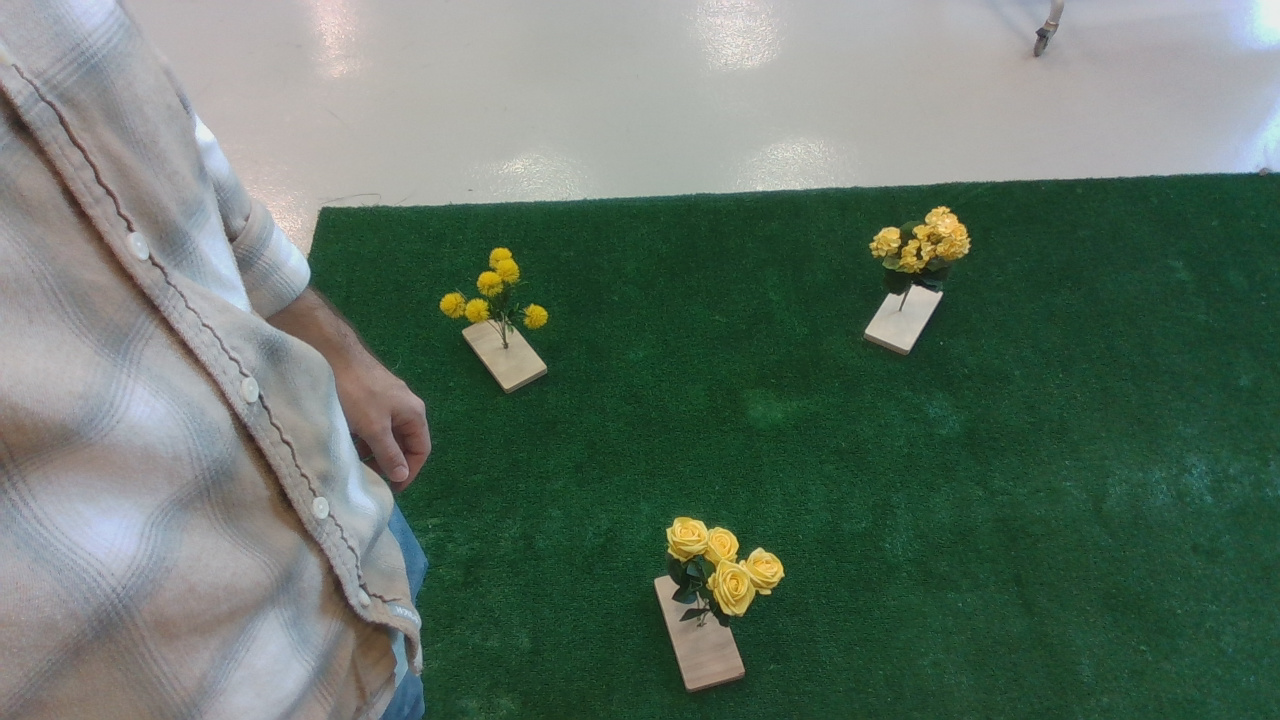dandelion: (436, 244, 573, 343)
geranium: (867, 204, 984, 302)
rose: (655, 519, 798, 631)
